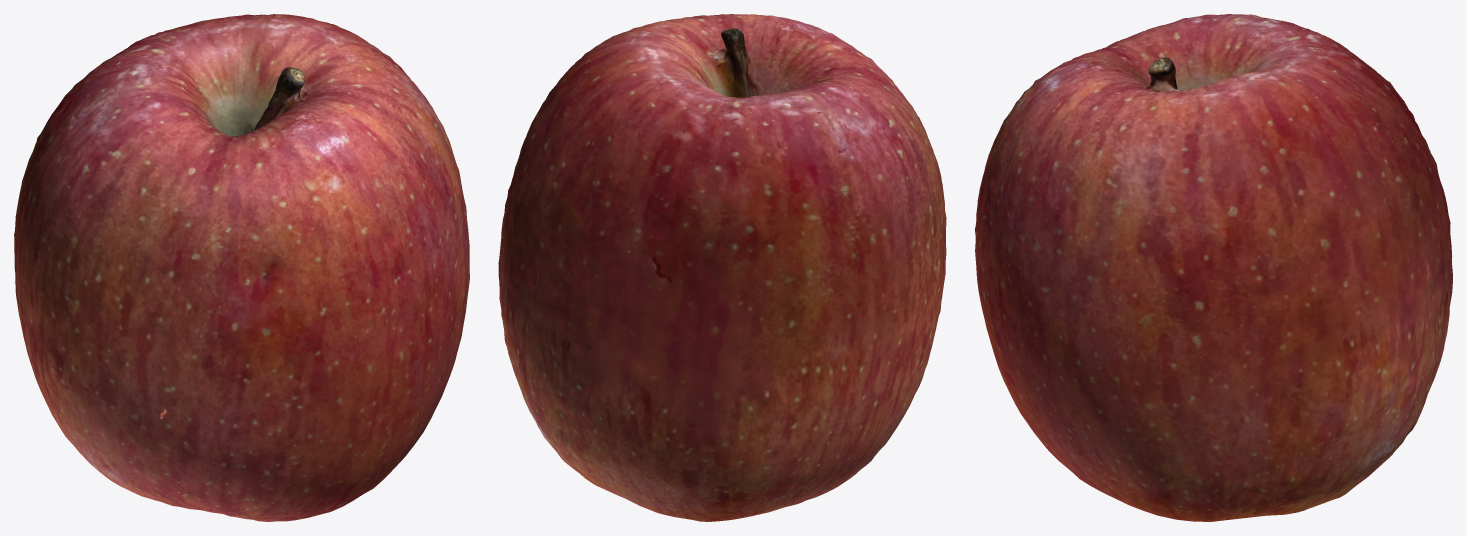
Rendered from applefuji_preview.glb.
3 renders of one model, left to right at view 1: azimuth 30°, elevation 25°; view 2: azimuth 150°, elevation 25°; view 3: azimuth 270°, elevation 25°, orthographic.
Parts seen in each view (by area): view 1: g0; view 2: g0; view 3: g0.
Part boxes in pixels (x1,y1,x2,y2): g0: [14, 14, 469, 521]; g0: [498, 14, 946, 521]; g0: [975, 14, 1452, 521].
Size of the model in its own units: 0.0851 by 0.0894 by 0.0896.
Materials: 1 (1 with a texture image).
